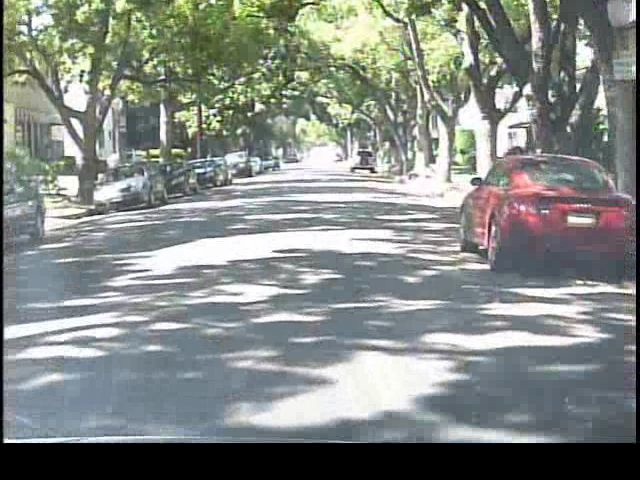person: (107, 147, 130, 198)
